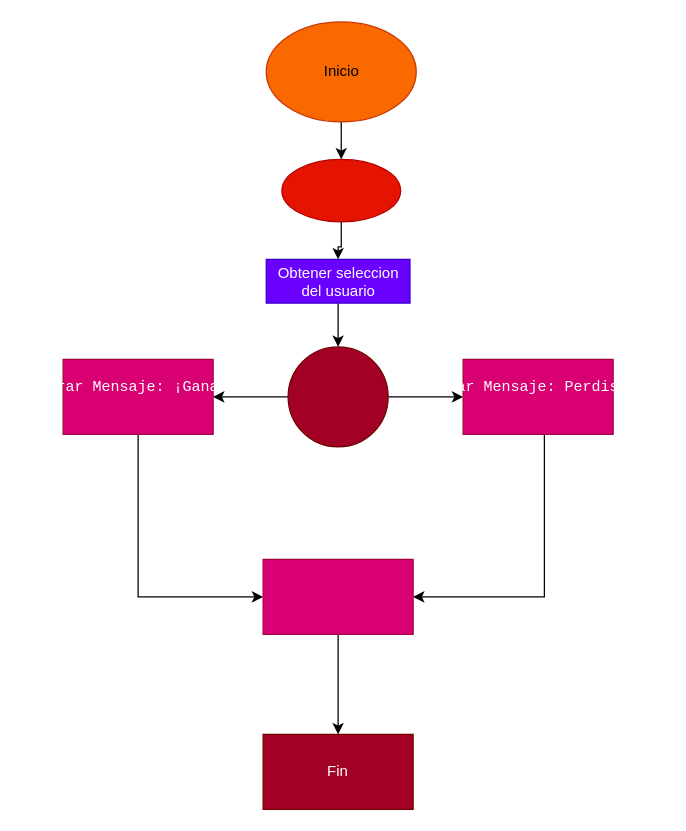
Some shapes in this 686 by 831 pixel diagram are drawn without their labels. Each missing label, with the centre of its shape:
"Mostrar Mensaje: ¡Empate!" goes at pixel 337 596.
"Pre Proceso" goes at pixel 341 190.
"¿Gano?" goes at pixel 337 396.
